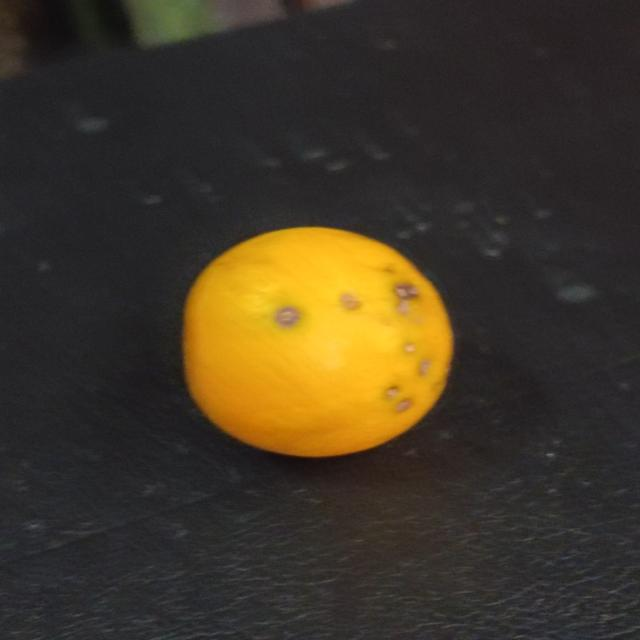black spot: (178, 224, 457, 466)
